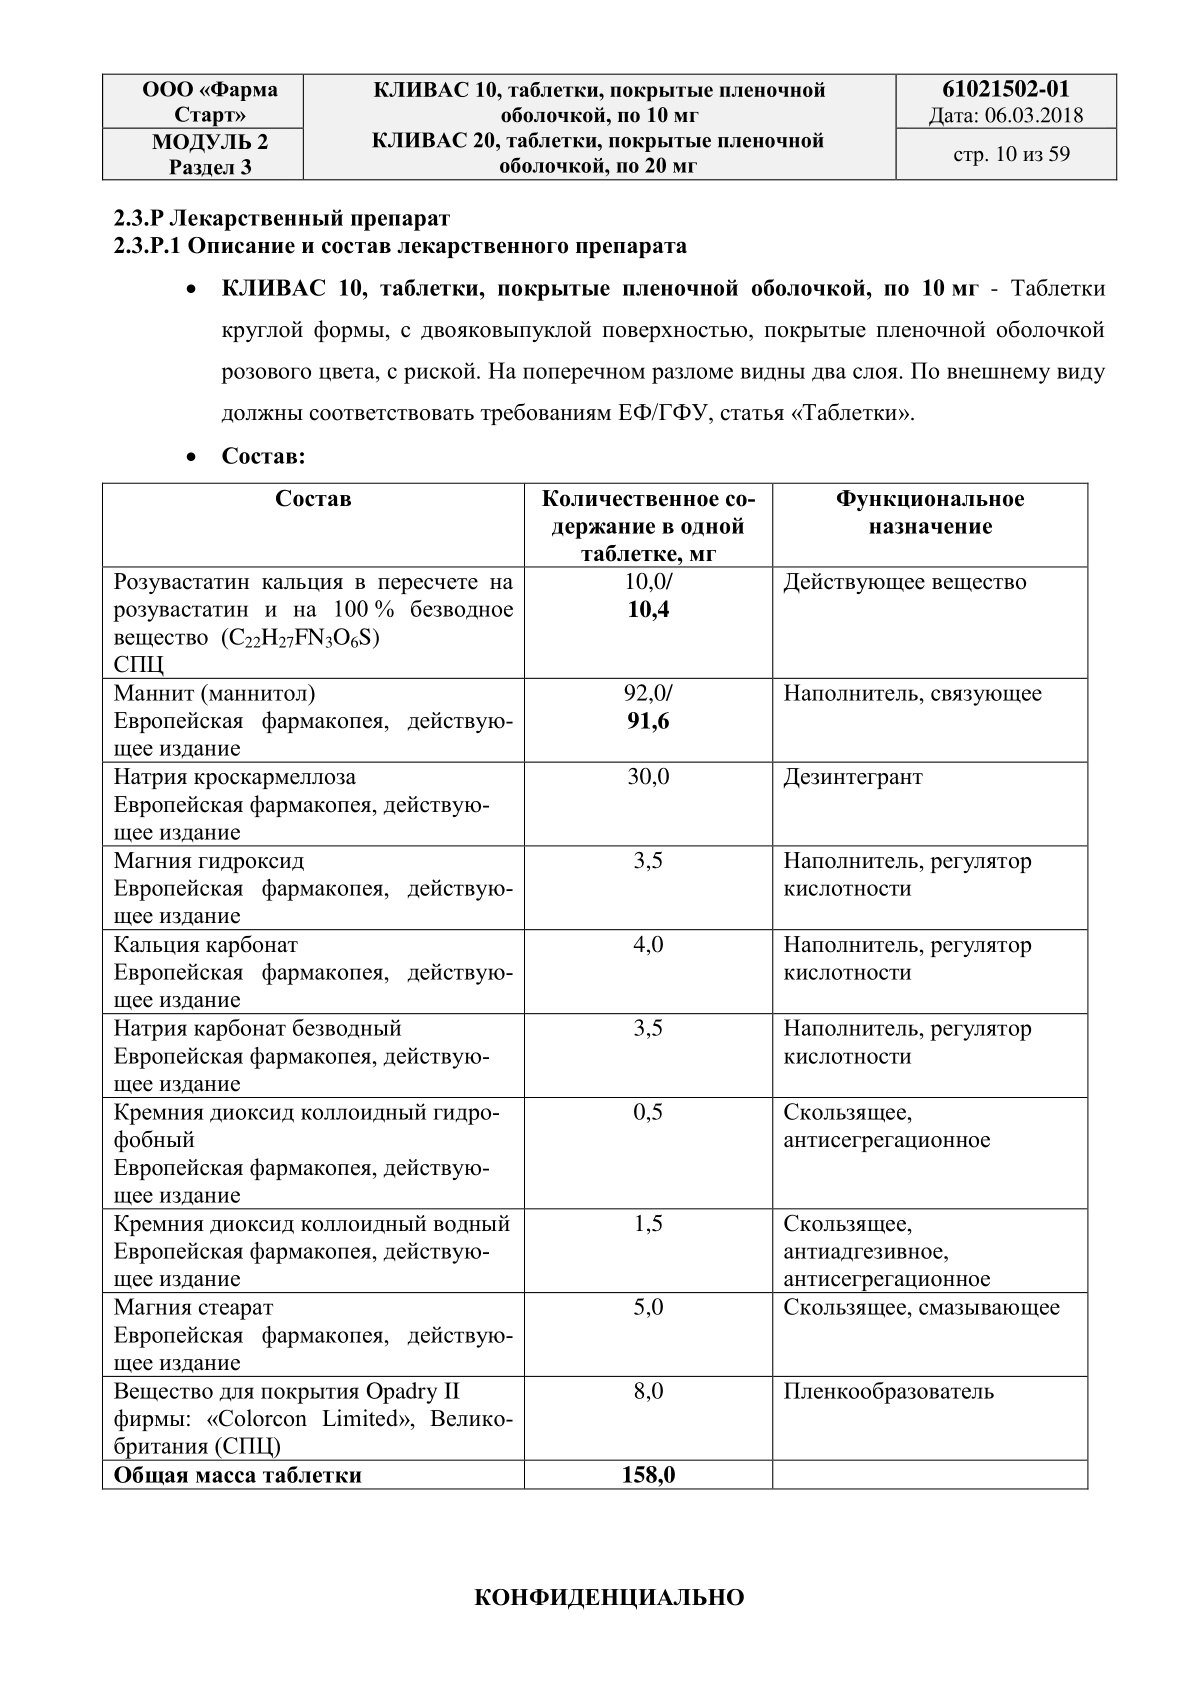full_lined: (101, 482, 1089, 1492)
merged_cells: (101, 72, 1118, 180)
